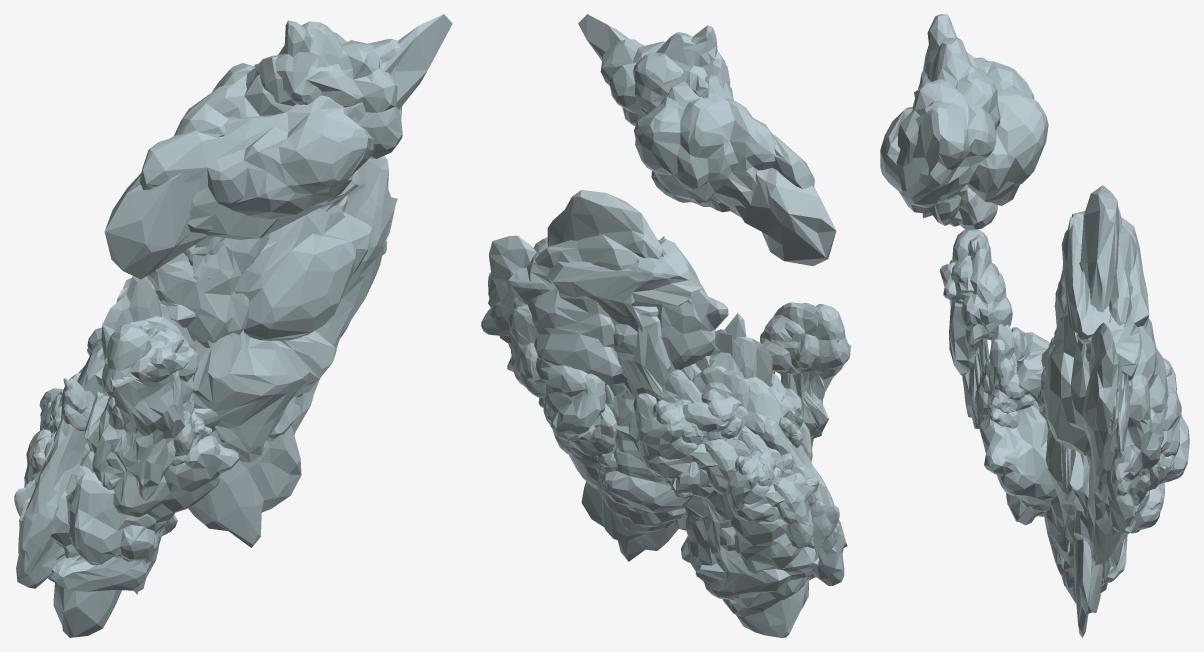
The model's file is Cloud_Ring_04.fbx.
3 renders of one model, left to right at view 1: azimuth 30°, elevation 25°; view 2: azimuth 150°, elevation 25°; view 3: azimuth 270°, elevation 25°, orthographic. The views are drawn at different scales.
Parts seen in each view (by area): view 1: Cloud_Ring_04; view 2: Cloud_Ring_04; view 3: Cloud_Ring_04.
Part boxes in pixels (x1,y1,x2,y2): Cloud_Ring_04: (14,14,452,637); Cloud_Ring_04: (481,14,851,637); Cloud_Ring_04: (880,14,1189,637).
Size of the model in its own units: 64.71 by 97.81 by 41.67.
